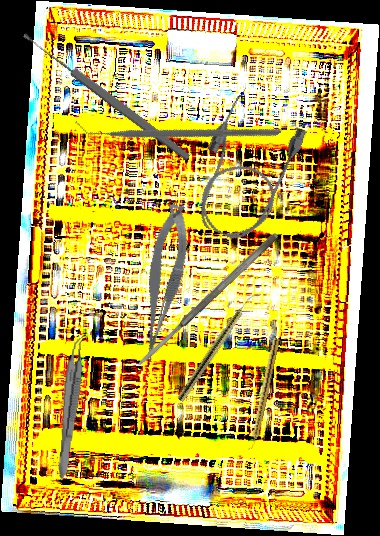Cannula: (179, 91, 310, 250)
Chopper: (74, 31, 283, 223)
Handpiece: (176, 290, 257, 404), (247, 337, 280, 452)
Micro Scissor: (122, 202, 202, 364)
Spatula Surgical: (133, 230, 281, 370)
Surgical Spoon: (21, 29, 192, 163)
Tissue Forceps: (56, 332, 88, 481)
